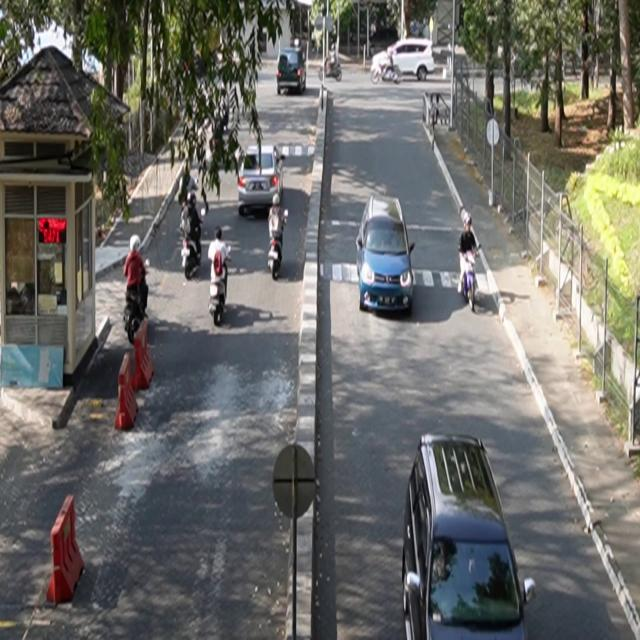car: (403, 433, 538, 640), (357, 195, 417, 315), (238, 145, 286, 218), (277, 47, 308, 96)
